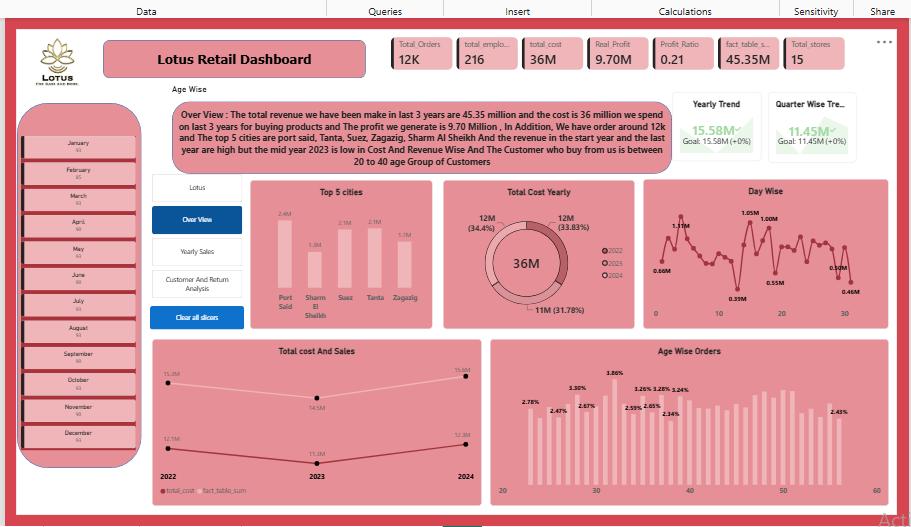

This screenshot's page, from the dashboard's own definition file:
{"tool":"powerbi","page":{"name":"Over View","canvas":[1920,1080],"ordinal":1},"visuals":[{"type":"shape","box":[22.3,22.3,1873,1033.2],"z":0},{"type":"cardVisual","fields":{"Data":["Customer_date.total_orders_yearly1","Customer_date.total_employees","Customer_date.total_cost","Customer_date.Real_Profit","Customer_date.Profit_Ratio","Customer_date.fact_table_sum","CountNonNull(dim_stores.store_id)"]},"box":[820.6,40.4,967.3,70.2],"z":1000},{"type":"shape","box":[206.9,46,558.9,81.3],"z":2000,"group":"g1"},{"type":"pageNavigator","box":[312.6,332.7,192,267.9],"z":2000},{"type":"lineChart","title":"Total cost And Sales","fields":{"Category":["dim_date.full_date.Variation.Date Hierarchy.Year"],"Y":["Customer_date.total_cost","Customer_date.fact_table_sum"]},"box":[312.6,683.2,701,355],"z":4000},{"type":"columnChart","title":"Top 5 cities","fields":{"Category":["dim_stores.city"],"Y":["Customer_date.fact_table_sum"]},"box":[520.2,343.8,388.5,317],"z":5000},{"type":"lineChart","title":"Day Wise ","fields":{"Category":["dim_date.day"],"Y":["Customer_date.fact_table_sum"]},"box":[1357.4,341.6,522.4,319.3],"z":6000},{"type":"columnChart","title":"Age Wise Orders","fields":{"Category":["dim_customers.customer_age"],"Y":["Customer_date.total_orders_yearly"]},"box":[1031.4,683.2,848.4,355],"z":7000},{"type":"donutChart","title":"Total Cost Yearly","fields":{"Category":["dim_date.full_date.Variation.Date Hierarchy.Year"],"Y":["Sum(Fact_table_Yearly.total_cost)"]},"box":[931,343.8,408.2,317.5],"z":8000},{"type":"shape","box":[24.6,181.3,264.6,776.1],"z":9000},{"type":"shape","title":"Age Wise","box":[355,140.3,1063,191.3],"z":10000},{"type":"image","box":[35.7,40.2,151,116.1],"z":11000,"group":"g1"},{"type":"advancedSlicerVisual","fields":{"Label":["CountNonNull(dim_date.full_date.Variation.Date Hierarchy.Year)"],"Values":["dim_date.full_date.Variation.Date Hierarchy.Month"]},"box":[34.6,251.8,244.4,667.7],"z":11000},{"type":"kpi","title":"Yearly  Trend","fields":{"Goal":["Customer_date.fact_table_sum"],"Indicator":["Customer_date.fact_table_sum"],"TrendLine":["dim_date.full_date.Variation.Date Hierarchy.Year"]},"box":[1417.7,156.3,189.8,147.3],"z":12000},{"type":"kpi","title":"Quarter Wise Trend","fields":{"Goal":["Customer_date.fact_table_sum"],"Indicator":["Customer_date.fact_table_sum"],"TrendLine":["dim_date.full_date.Variation.Date Hierarchy.Quarter"]},"box":[1623.1,156.3,187.5,149.6],"z":13000},{"type":"group","id":"g1","title":"Group 1","box":[35.7,40.2,730,116.1],"z":14000},{"type":"actionButton","box":[307.4,612.3,200,50],"z":14001}]}

Visuals, with their boxes on the page's 1920x1080 design canvas (x1, y1, x2, y2). These are canvas units, not pixel positions in the 911x527 screenshot, which may show the page scaled, cropped or inside an application window:
shape: (left=22, top=22, right=1895, bottom=1056)
cardVisual - Customer_date.total_orders_yearly1 x Customer_date.total_employees: (left=821, top=40, right=1788, bottom=111)
shape: (left=207, top=46, right=766, bottom=127)
pageNavigator: (left=313, top=333, right=505, bottom=601)
"Total cost And Sales" lineChart: (left=313, top=683, right=1014, bottom=1038)
"Top 5 cities" columnChart: (left=520, top=344, right=909, bottom=661)
"Day Wise " lineChart: (left=1357, top=342, right=1880, bottom=661)
"Age Wise Orders" columnChart: (left=1031, top=683, right=1880, bottom=1038)
"Total Cost Yearly" donutChart: (left=931, top=344, right=1339, bottom=661)
shape: (left=25, top=181, right=289, bottom=957)
"Age Wise" shape: (left=355, top=140, right=1418, bottom=332)
image: (left=36, top=40, right=187, bottom=156)
advancedSlicerVisual - CountNonNull(dim_date.full_date.Variation.Date Hierarchy.Year) x dim_date.full_date.Variation.Date Hierarchy.Month: (left=35, top=252, right=279, bottom=920)
"Yearly  Trend" kpi: (left=1418, top=156, right=1608, bottom=304)
"Quarter Wise Trend" kpi: (left=1623, top=156, right=1811, bottom=306)
"Group 1" group: (left=36, top=40, right=766, bottom=156)
actionButton: (left=307, top=612, right=507, bottom=662)
